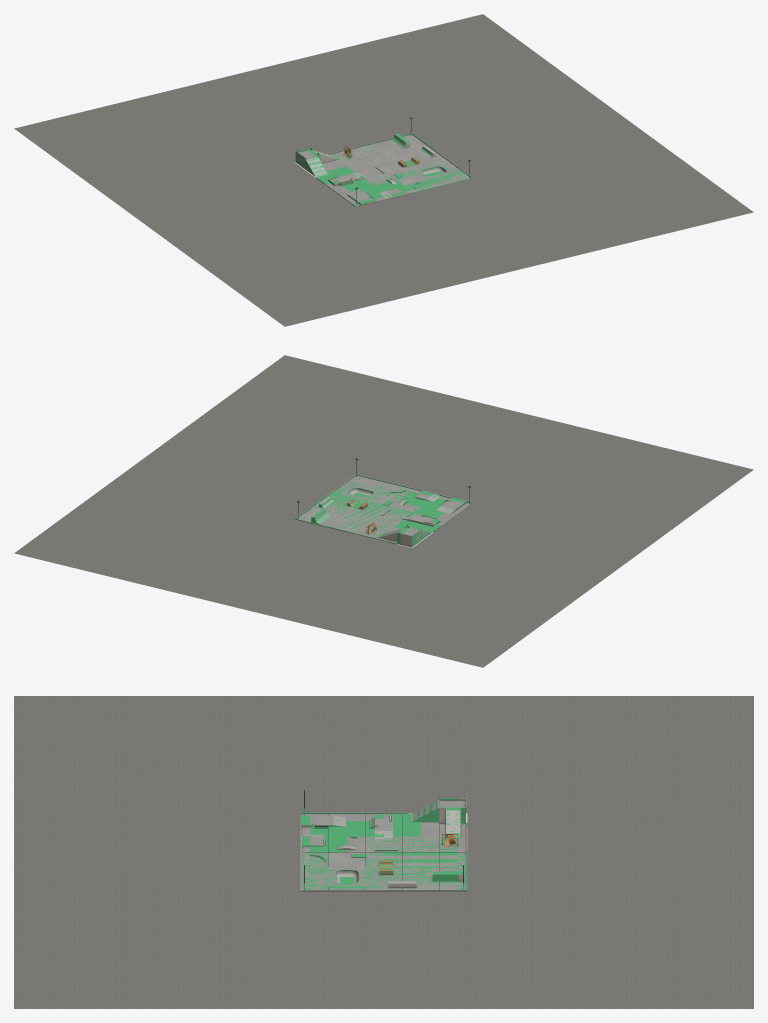
The model's file is foundry.glb.
The picture shows the model from 3 angles, top to bottom: view 1: azimuth 30°, elevation 25°; view 2: azimuth 150°, elevation 25°; view 3: azimuth 270°, elevation 25°; orthographic projection. The views are drawn at different scales.
Parts seen in each view (by area): view 1: ENV_Concrete_apron@q#0, ENV_Concrete_apron@q#2, ENV_Concrete_apron@q#1, COL_Ground; view 2: ENV_Concrete_apron@q#0, ENV_Concrete_apron@q#2, ENV_Concrete_apron@q#1, COL_Ground; view 3: ENV_Concrete_apron@q#0, ENV_Concrete_apron@q#2, ENV_Concrete_apron@q#1, COL_Ground, COL_Tower, COL_Street.
Boxes of the visible parts, bbox=[...] form: ENV_Concrete_apron@q#0: bbox=[14, 14, 753, 326]; ENV_Concrete_apron@q#2: bbox=[22, 14, 746, 325]; ENV_Concrete_apron@q#1: bbox=[21, 20, 734, 326]; COL_Ground: bbox=[318, 136, 468, 199]; ENV_Concrete_apron@q#0: bbox=[14, 355, 753, 667]; ENV_Concrete_apron@q#2: bbox=[14, 358, 751, 664]; ENV_Concrete_apron@q#1: bbox=[26, 361, 753, 663]; COL_Ground: bbox=[300, 477, 445, 535]; ENV_Concrete_apron@q#0: bbox=[14, 696, 753, 1008]; ENV_Concrete_apron@q#2: bbox=[14, 696, 753, 1008]; ENV_Concrete_apron@q#1: bbox=[14, 696, 753, 1008]; COL_Ground: bbox=[301, 813, 466, 889]; COL_Tower: bbox=[408, 798, 466, 838]; COL_Street: bbox=[301, 815, 397, 862].
Bounding box in the file's own units: 320 × 13.85 × 320.
12 materials, 5 textured.
